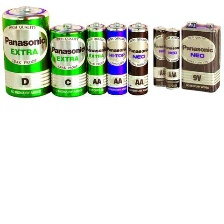battery: (1, 3, 53, 101), (48, 17, 89, 98), (180, 16, 222, 93), (84, 19, 109, 97), (125, 20, 149, 97), (105, 20, 129, 96), (163, 24, 179, 90), (152, 23, 168, 88)
